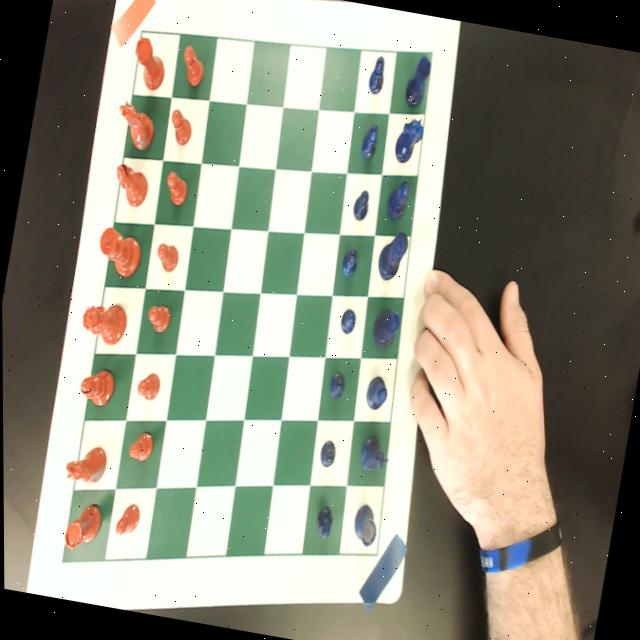B: (383, 178, 410, 220), (363, 374, 389, 411)
K: (373, 225, 409, 282)
N: (392, 112, 425, 164), (356, 432, 390, 474)
P: (364, 52, 388, 94), (310, 503, 334, 542), (357, 120, 379, 158), (314, 434, 337, 470), (337, 245, 359, 278), (350, 186, 370, 220), (325, 368, 346, 400), (336, 305, 357, 335)
Q: (368, 306, 399, 349)
R: (400, 52, 433, 108), (348, 501, 380, 546)
b: (109, 160, 150, 207), (75, 364, 115, 409)
k: (92, 223, 145, 278)
n: (110, 95, 158, 152), (61, 440, 107, 486)
p: (176, 43, 208, 88), (166, 106, 195, 146), (160, 168, 190, 206), (112, 499, 140, 538), (143, 300, 172, 334), (126, 428, 153, 462), (152, 242, 180, 272), (133, 368, 160, 399)
q: (77, 297, 128, 346)
r: (60, 496, 103, 553), (128, 33, 169, 91)
